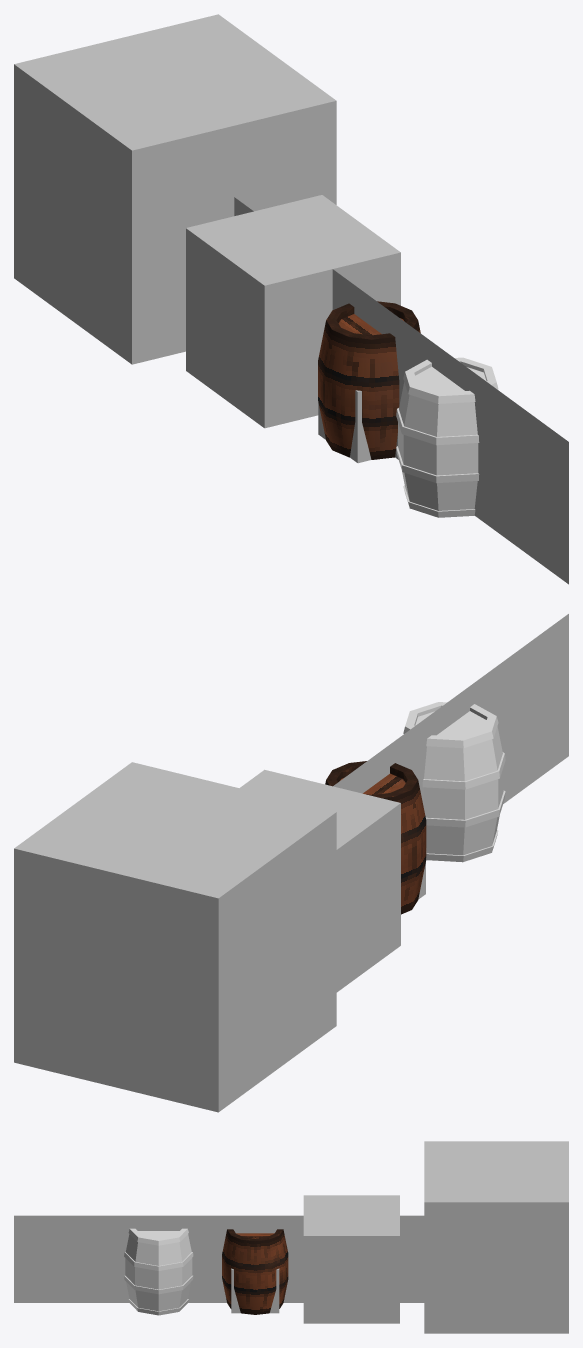
Rendered from Barril3.fbx.
The picture shows the model from 3 angles, top to bottom: view 1: azimuth 30°, elevation 25°; view 2: azimuth 150°, elevation 25°; view 3: azimuth 270°, elevation 25°; orthographic projection. The views are drawn at different scales.
Visible parts, largest first — view 1: 48, 32, Ref Player, Cylinder, Cylinder.001, 16; view 2: 48, Ref Player, 32, Cylinder, Cylinder.001; view 3: 48, Ref Player, 32, Cylinder, Cylinder.001, 16.
Part boxes in pixels (bbox=[...]): 48: bbox=[14, 14, 336, 364]; 32: bbox=[186, 195, 400, 428]; Ref Player: bbox=[234, 197, 568, 584]; Cylinder: bbox=[396, 357, 498, 517]; Cylinder.001: bbox=[318, 301, 420, 459]; 16: bbox=[318, 390, 371, 463]; 48: bbox=[14, 762, 336, 1112]; Ref Player: bbox=[333, 614, 568, 860]; 32: bbox=[239, 769, 400, 992]; Cylinder: bbox=[403, 702, 505, 862]; Cylinder.001: bbox=[325, 761, 426, 914]; 48: bbox=[424, 1141, 568, 1333]; Ref Player: bbox=[14, 1215, 424, 1302]; 32: bbox=[303, 1195, 399, 1323]; Cylinder: bbox=[124, 1228, 193, 1315]; Cylinder.001: bbox=[222, 1229, 288, 1314]; 16: bbox=[231, 1268, 279, 1313].
Size of the model in its own units: 300 by 1150 by 300.
